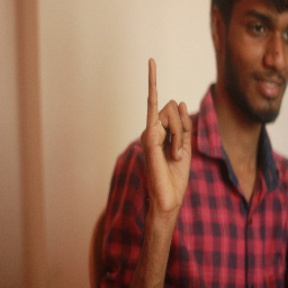I: (135, 56, 200, 205)
